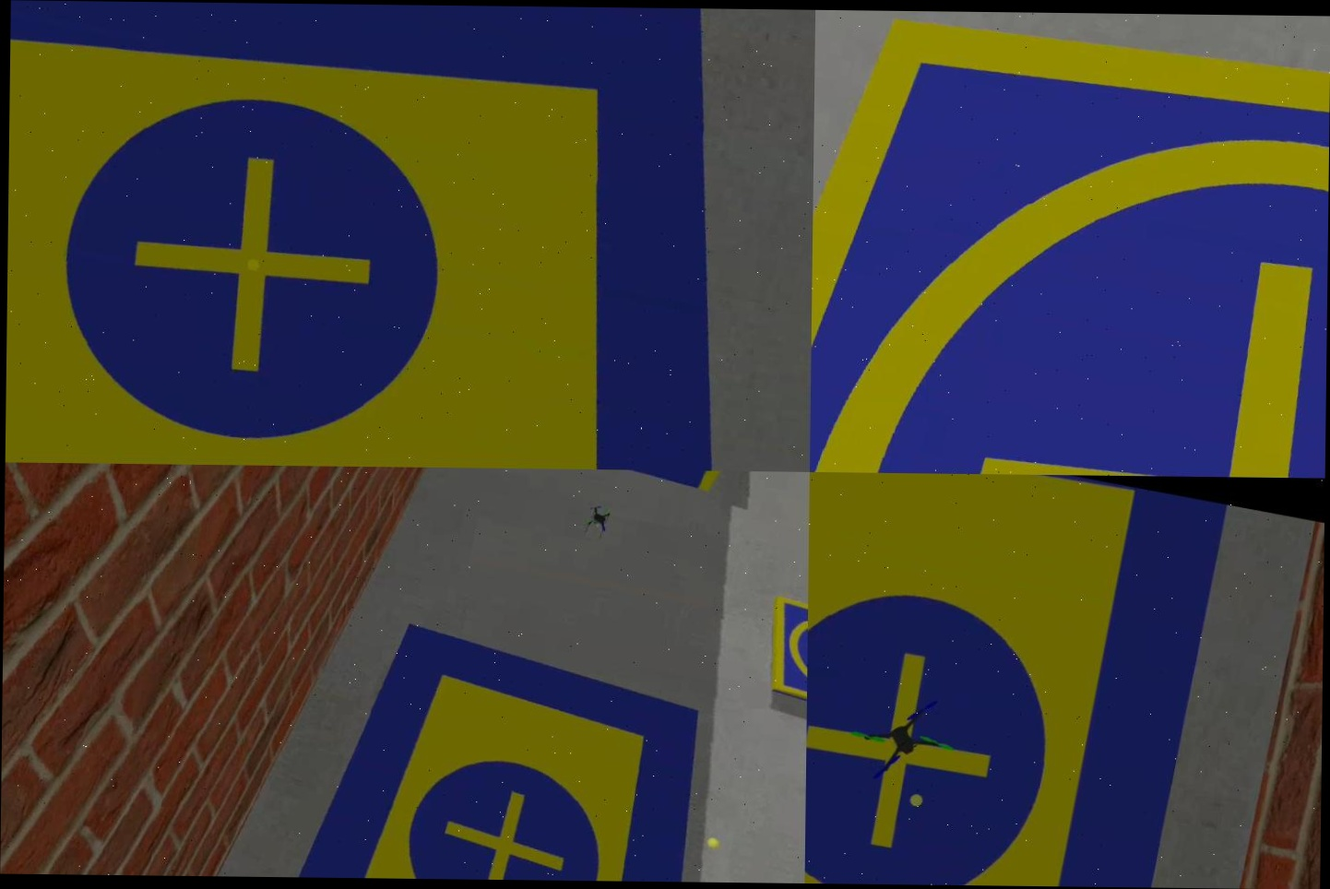large_base: (6, 0, 815, 472), (804, 472, 1225, 887), (218, 600, 751, 882)
small_base: (810, 10, 1330, 479), (757, 589, 808, 732)
